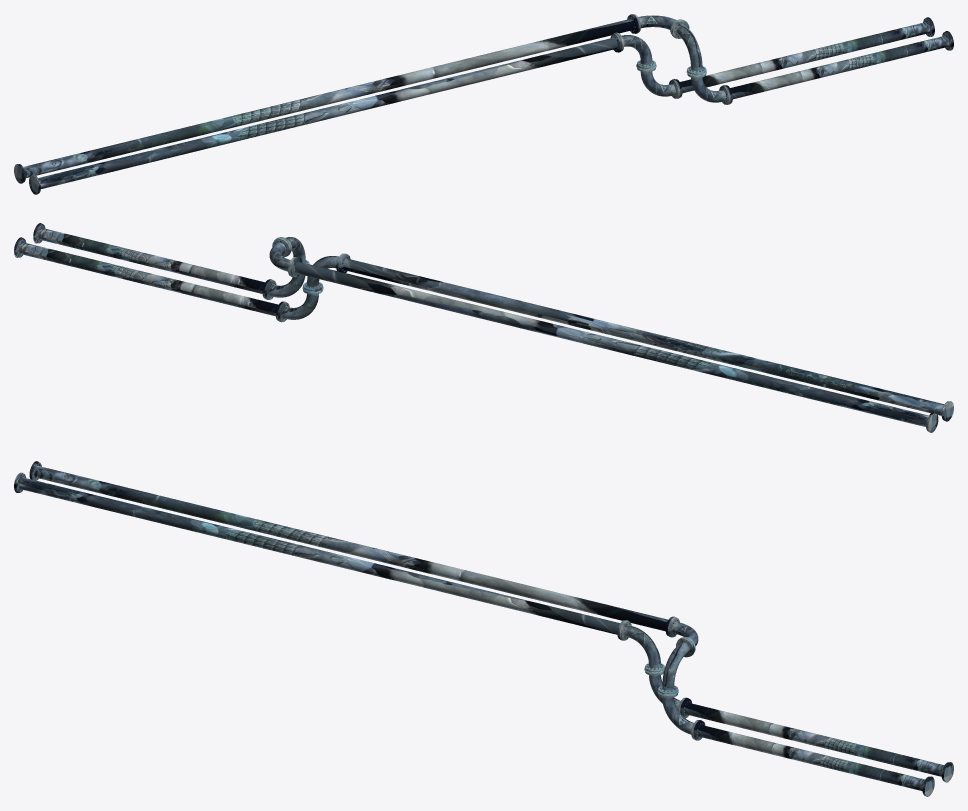
Rendered from futuristic_room_8.obj.
3 views of the same model, one above another, from view 1: azimuth 30°, elevation 25°; view 2: azimuth 150°, elevation 25°; view 3: azimuth 330°, elevation 25° (orthographic). The views are drawn at different scales.
Size of the model in its own units: 3.64 by 0.3064 by 0.3084.
